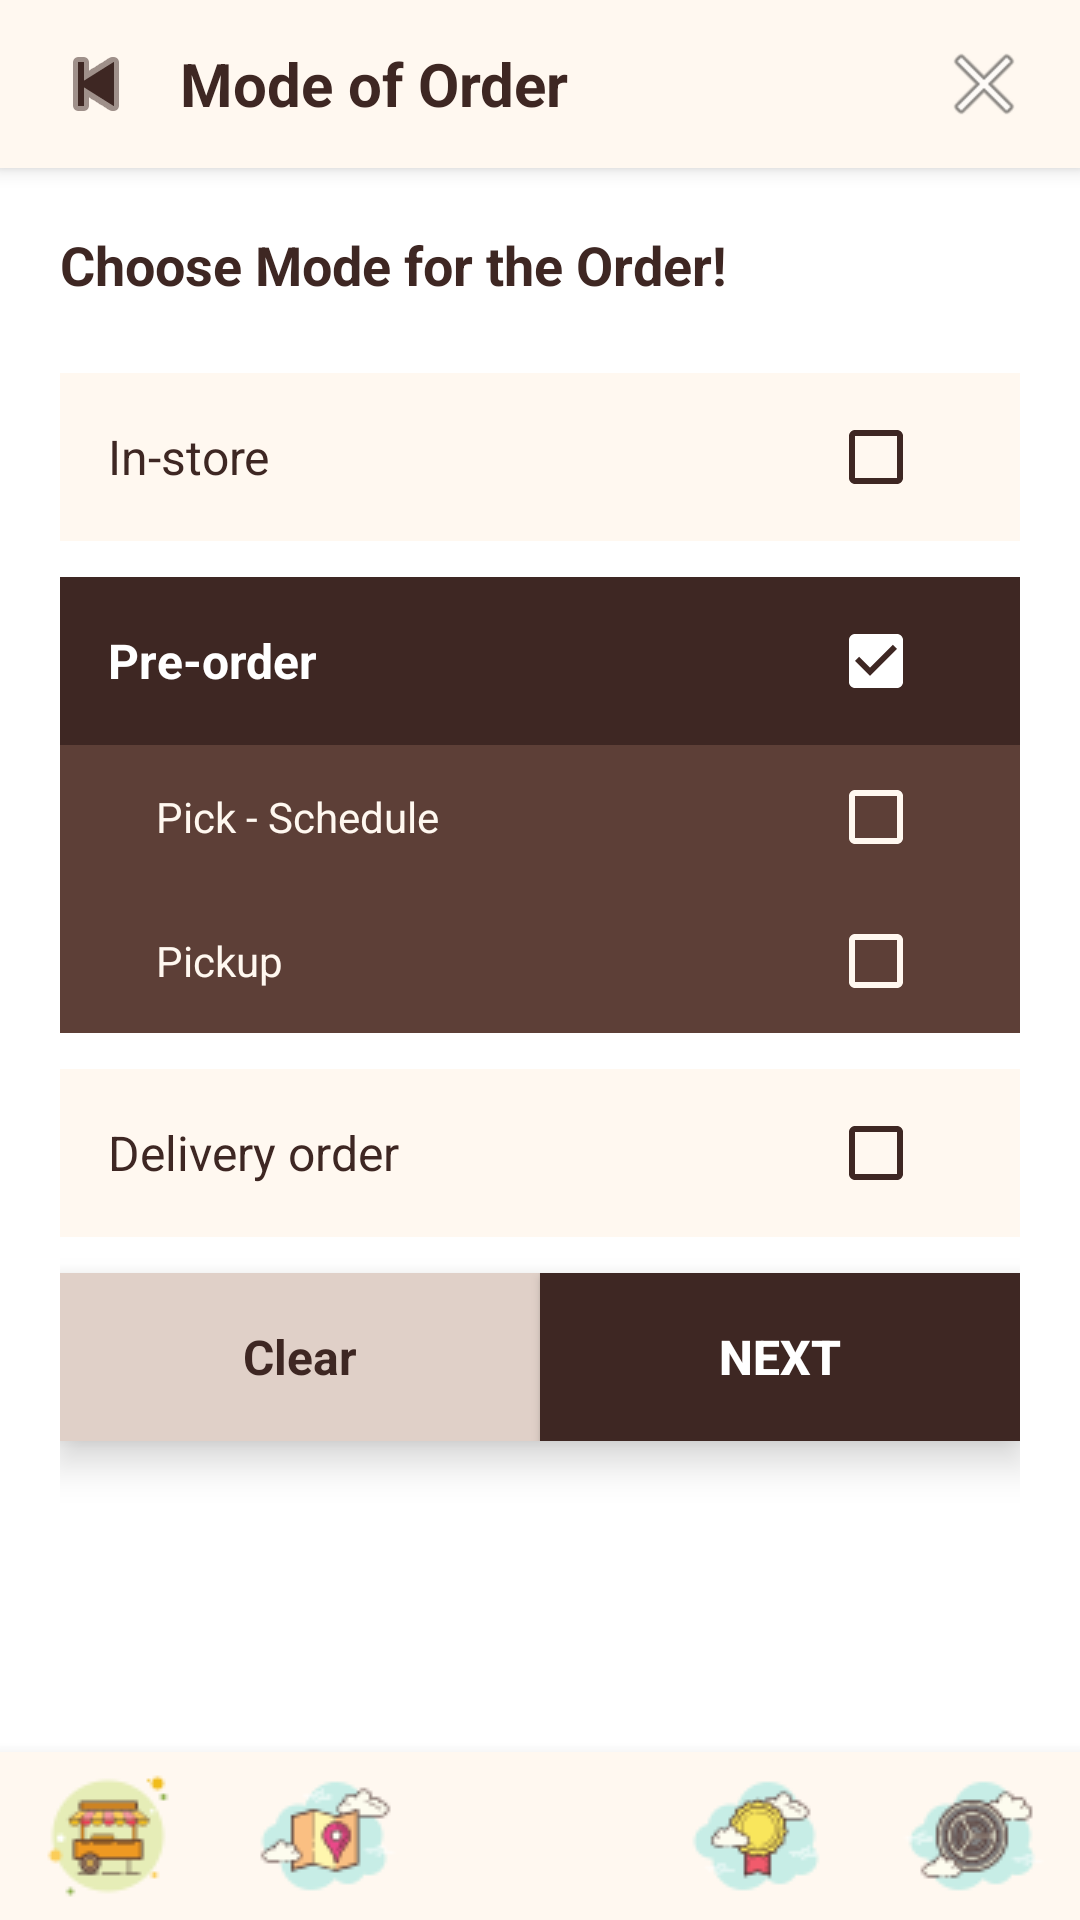

Icons on this 1080w x 1920h Android screen, each with its box as (x1, y1, x2, y2):
Back: (73, 57, 119, 111)
Close: (954, 54, 1014, 114)
Locator: (260, 1782, 391, 1890)
Rewards: (694, 1782, 818, 1890)
